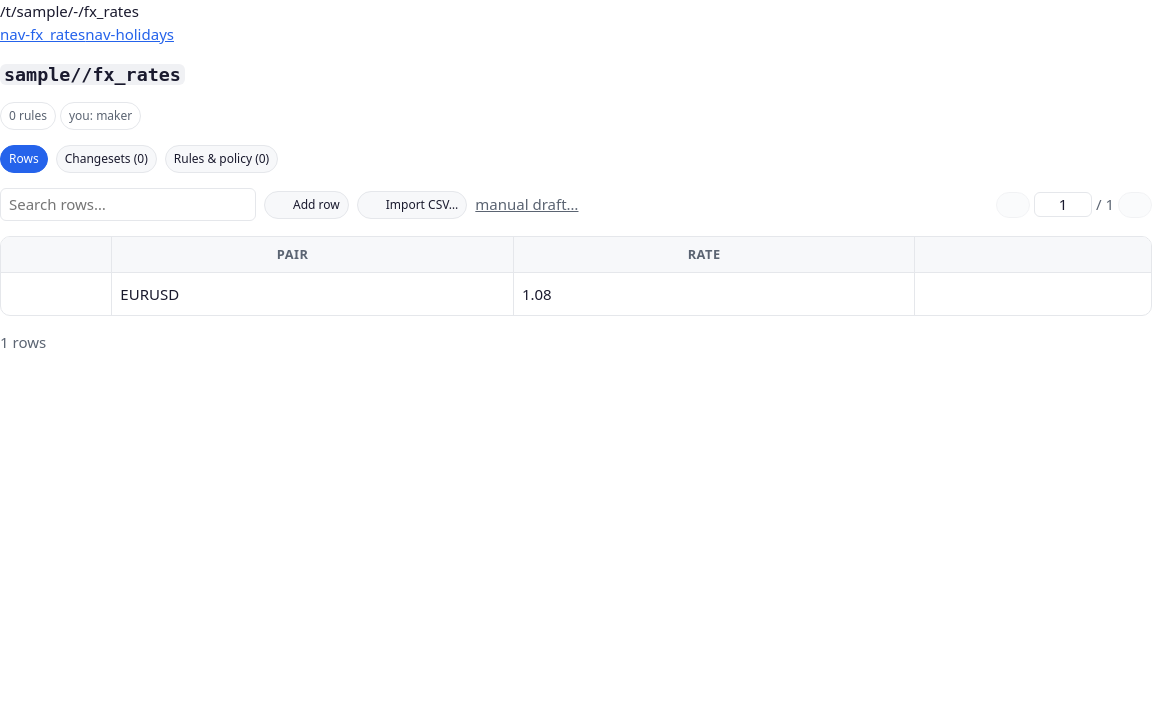
Scenario: TableBrowser draft basket scoping › returns to the draft's own table on Keep draft
This screenshot has width=1152, height=720.
Click the button "Add row" at (306,205), box left=264, top=191, right=349, bottom=219
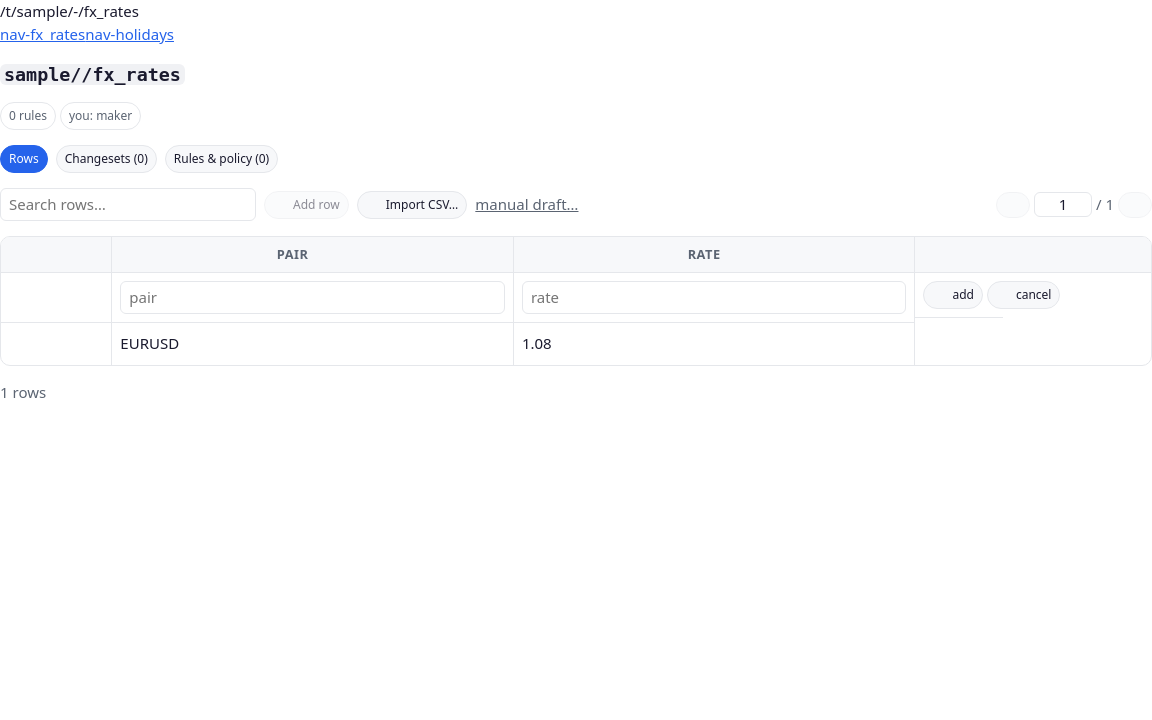
Type "XXXYYY" into the field labelled "pair" at (313,297), box left=120, top=281, right=505, bottom=314
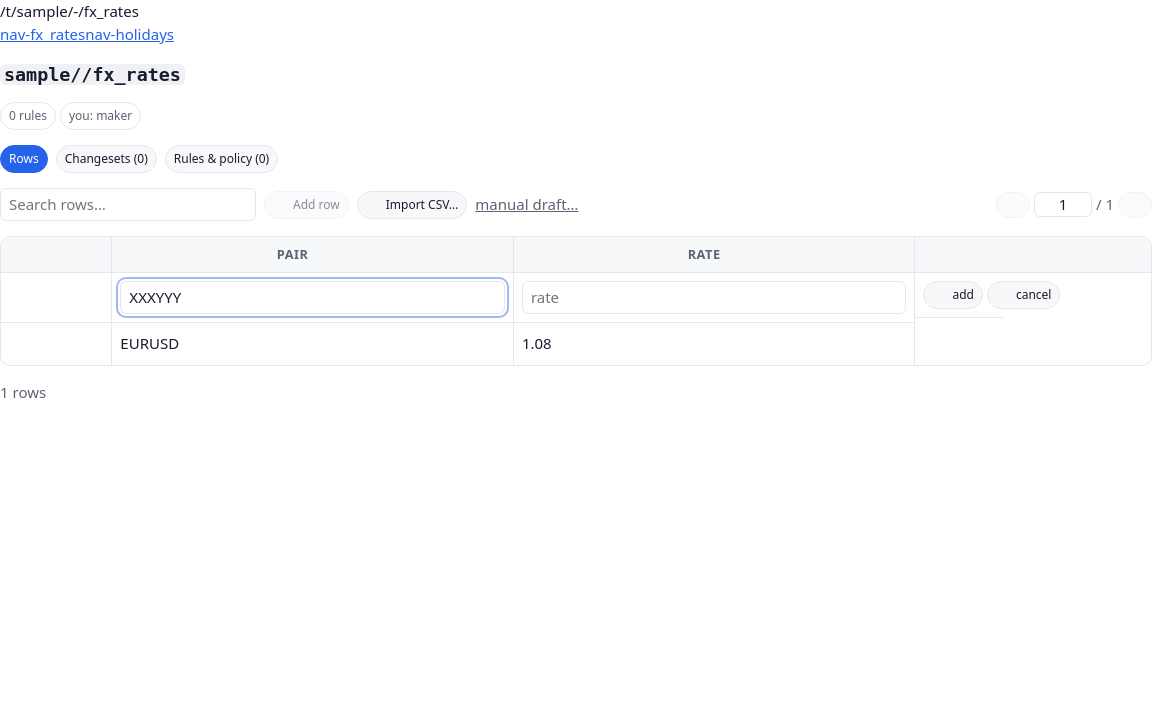
Type "1.5" into the field labelled "rate" at (714,297), box left=522, top=281, right=906, bottom=314
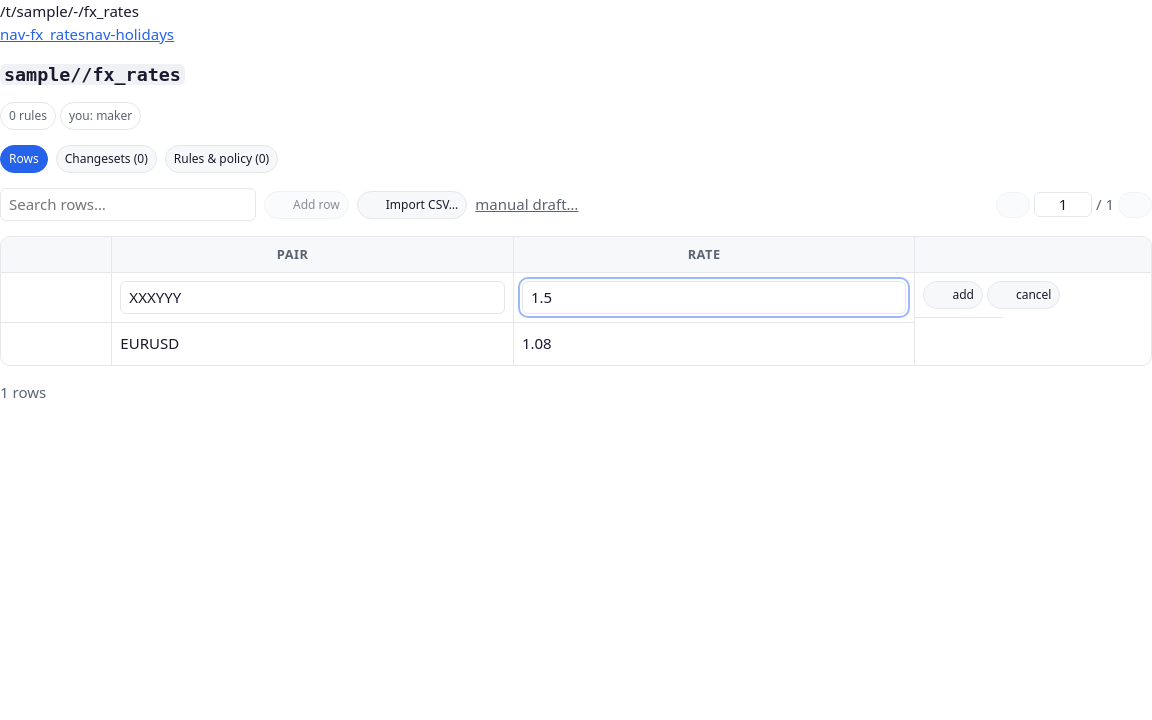
Click the button "add" at (953,295), box left=923, top=281, right=983, bottom=309
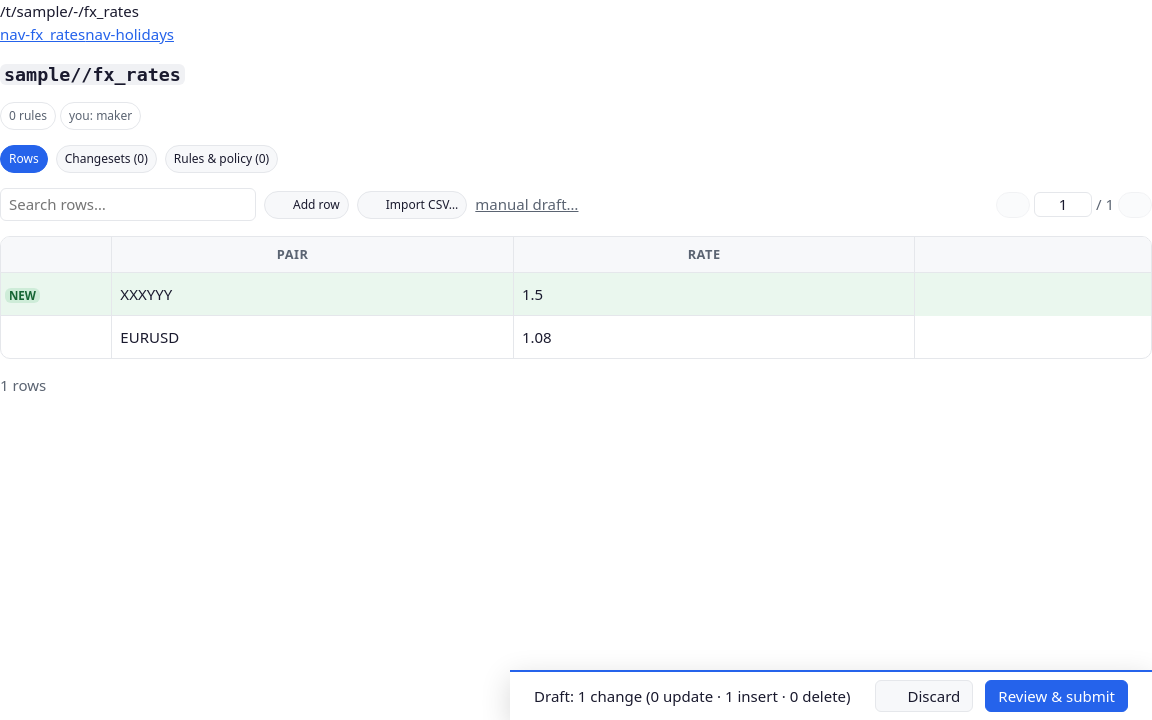
Click the link "nav-holidays" at (130,34), box left=85, top=24, right=174, bottom=44
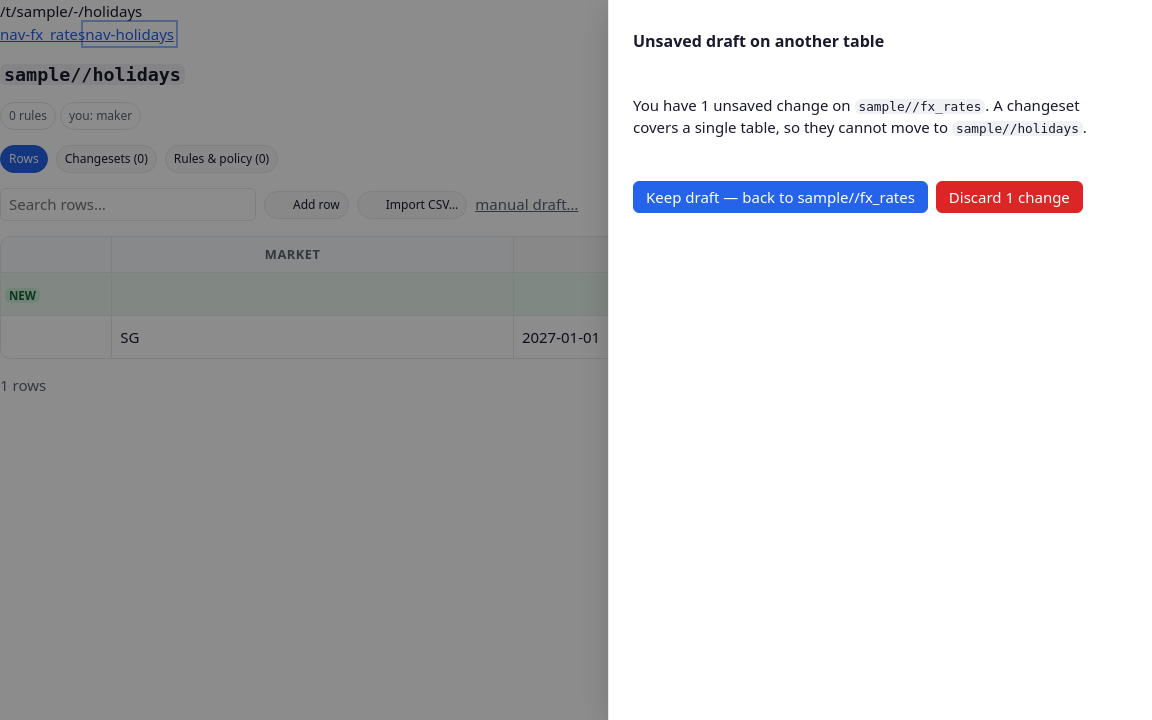
Click the button "Keep draft — back to sample//fx_rates" at (780,197), box left=633, top=180, right=928, bottom=213
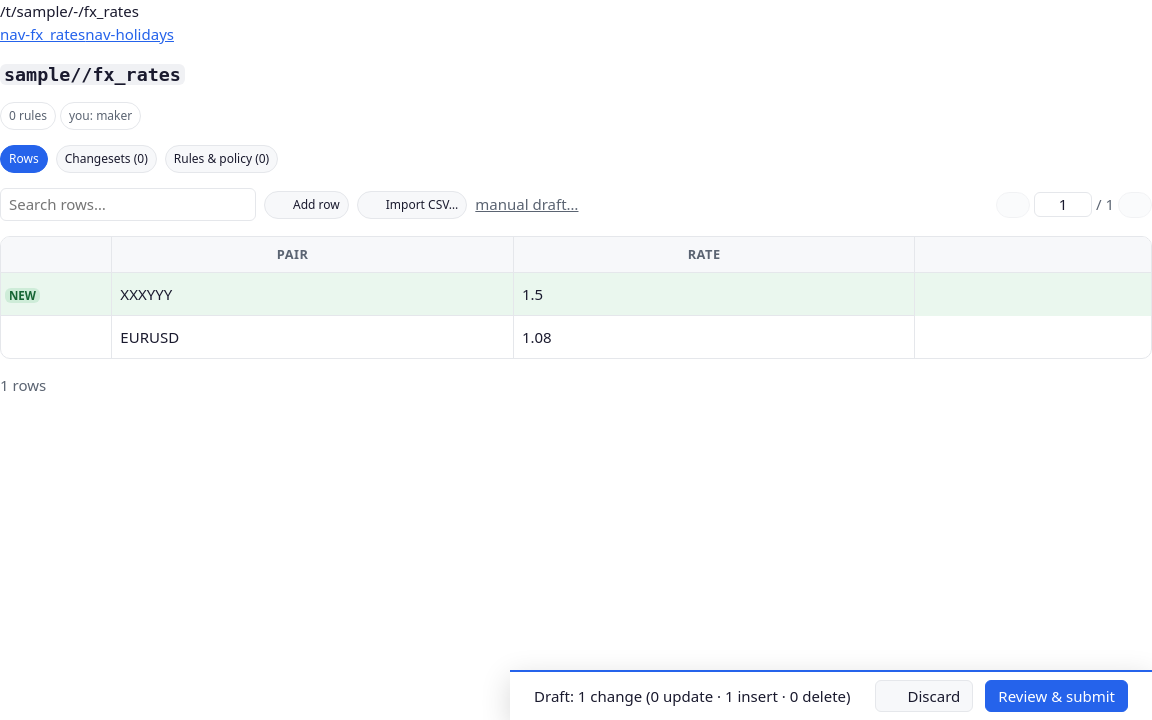
Expected: the text with test id "pathname" reads "/t/sample/-/fx_rates", left=0, top=1, right=139, bottom=21
Expected: the text "Draft: 1 change (0 update · 1 insert · 0 delete)" is shown, left=534, top=684, right=851, bottom=707
Expected: the button "Review & submit" is shown, left=985, top=680, right=1128, bottom=712
